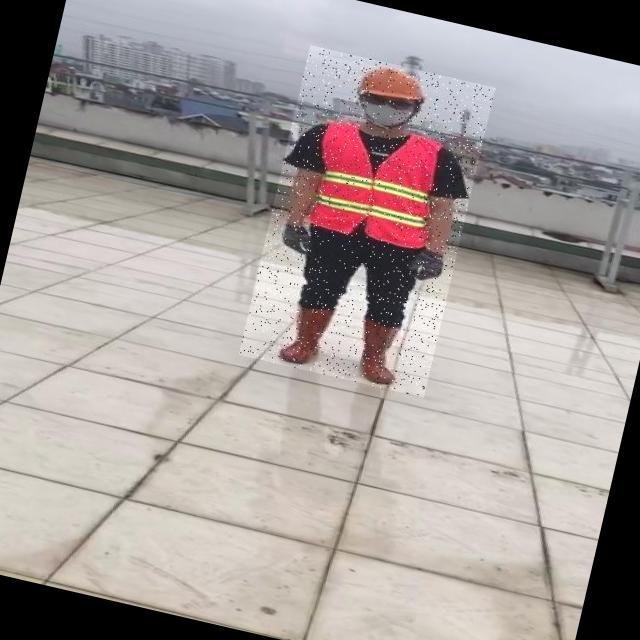Gloves: (403, 248, 448, 285), (275, 221, 319, 258)
Helmet: (349, 58, 430, 108)
Human: (239, 45, 496, 398)
Safety Boot: (347, 313, 408, 387), (275, 299, 337, 370)
Safety Vest: (300, 115, 452, 254)
